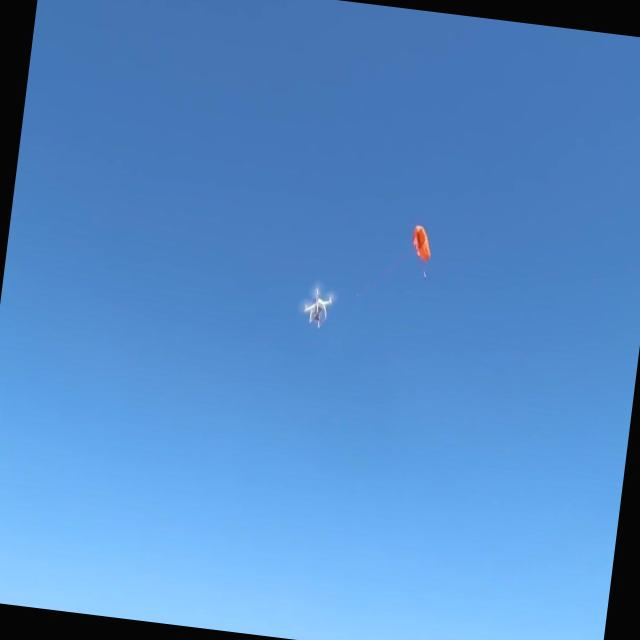drone: (299, 280, 336, 333)
